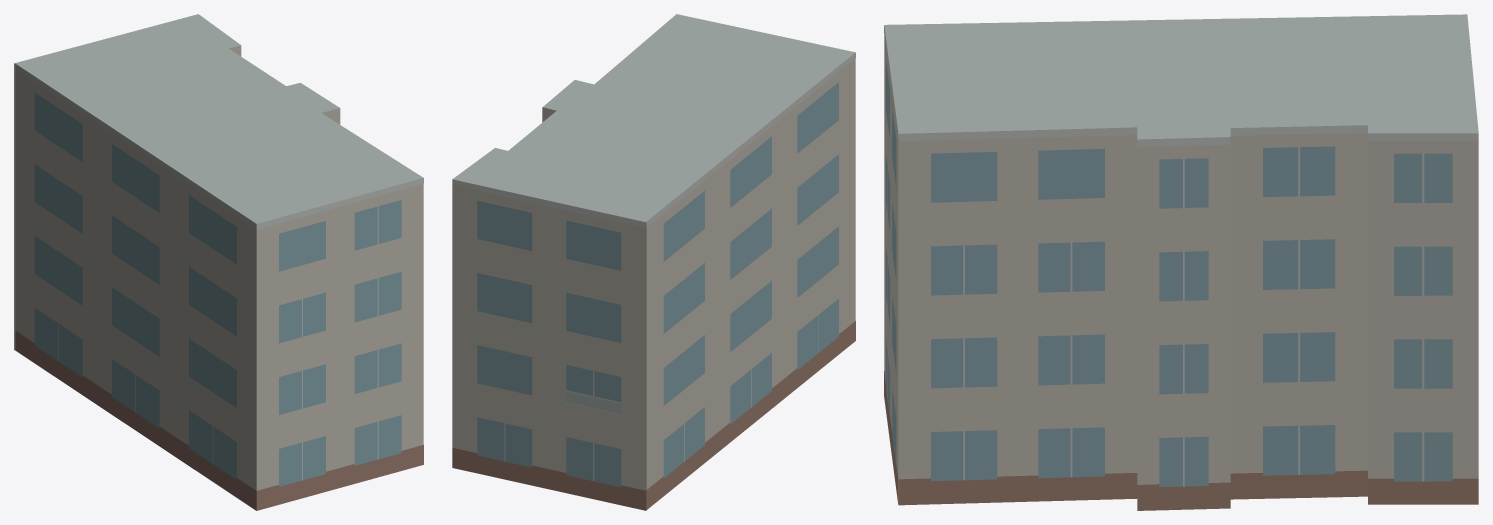
File: survey-upis-32723120.glb
3 views of the same model, side by side, from view 1: azimuth 30°, elevation 25°; view 2: azimuth 150°, elevation 25°; view 3: azimuth 270°, elevation 25° (orthographic). The views are drawn at different scales.
Visible parts, largest first — view 1: survey-upis-32723120.tmp; view 2: survey-upis-32723120.tmp; view 3: survey-upis-32723120.tmp.
Boxes of the visible parts, x1,y1,x2,y2 form: survey-upis-32723120.tmp: (14,14,423,510); survey-upis-32723120.tmp: (452,14,855,510); survey-upis-32723120.tmp: (884,14,1478,510).
Bounding box in the file's own units: 8.67 × 11.95 × 17.35.
